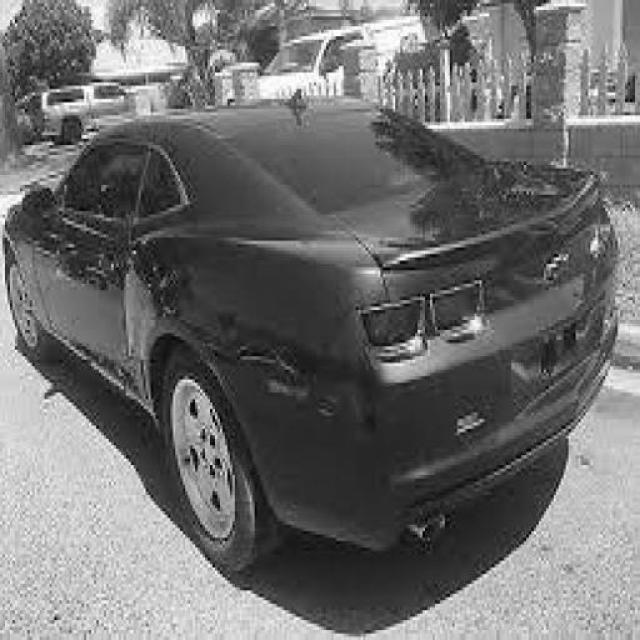scratch: (56, 250, 295, 412)
